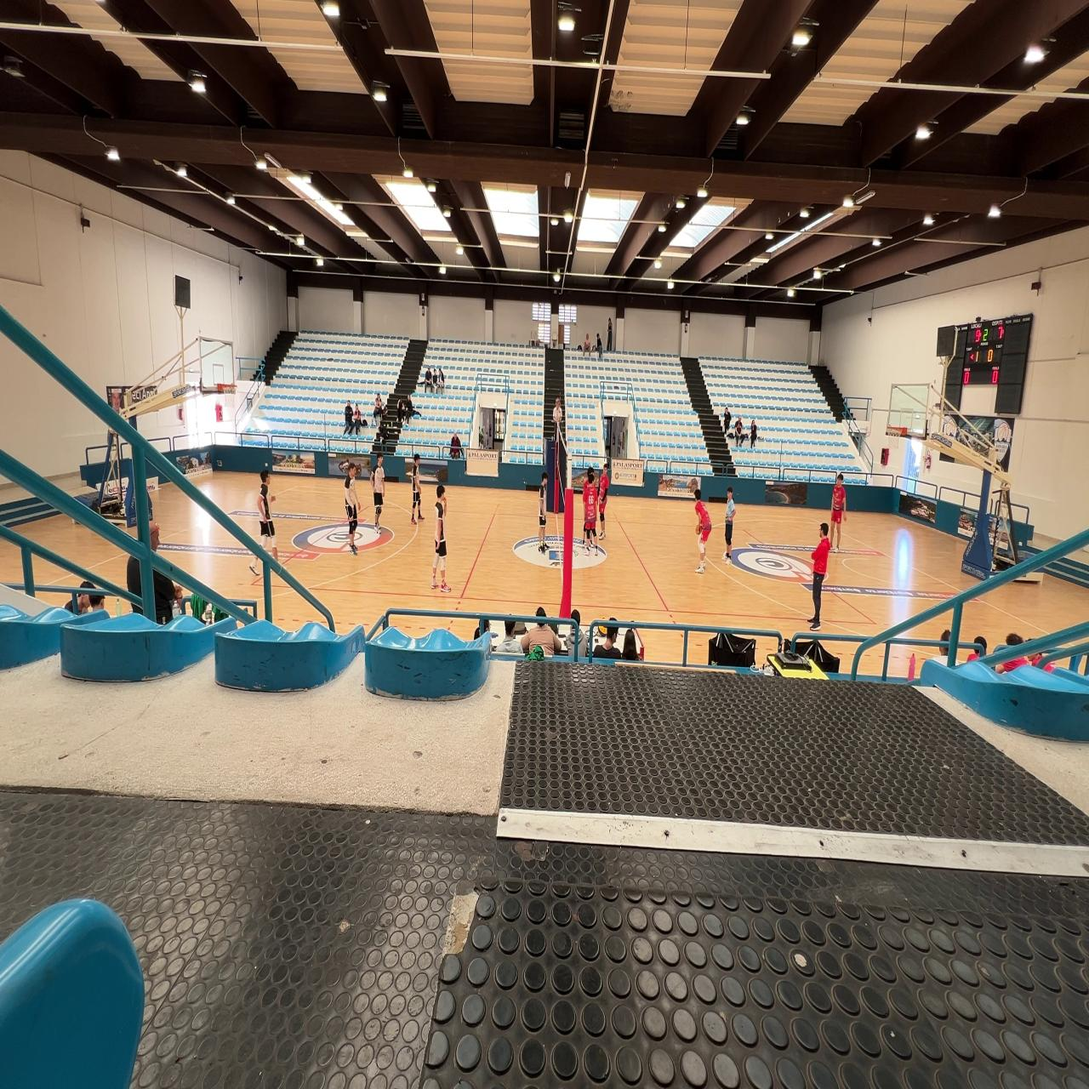ball: (695, 524, 703, 535)
